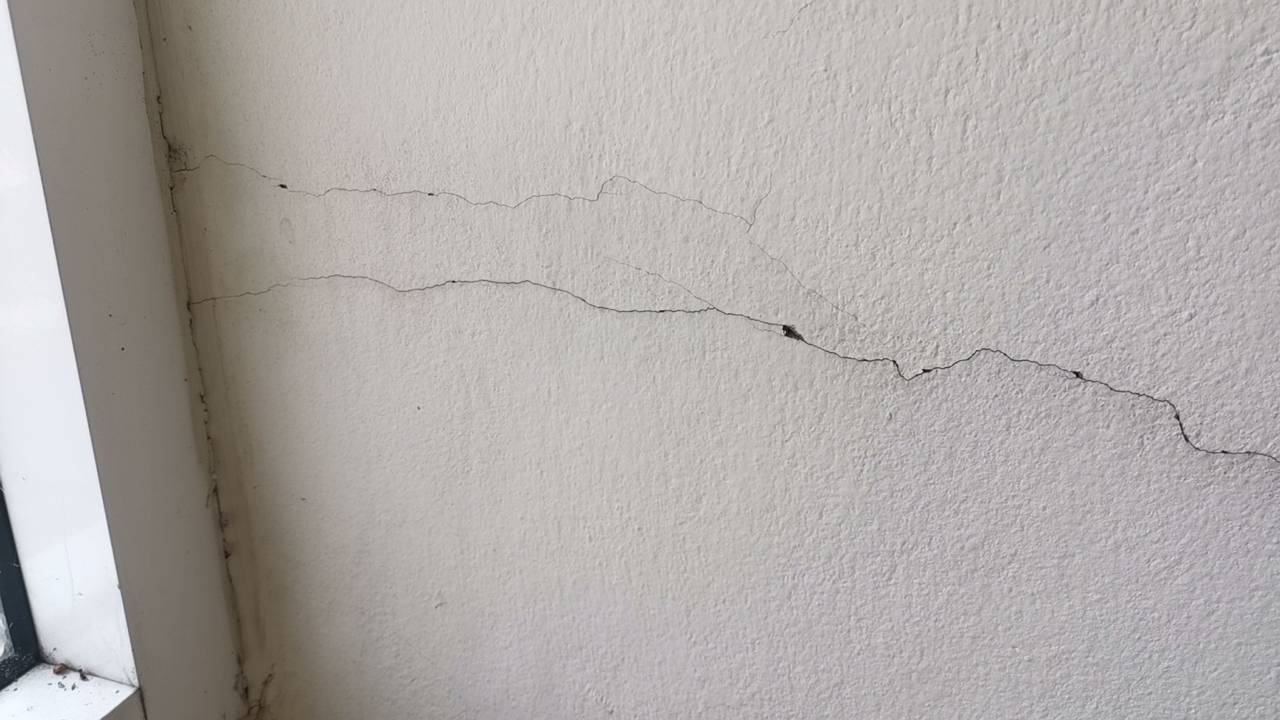Low: (145, 117, 1277, 503)
